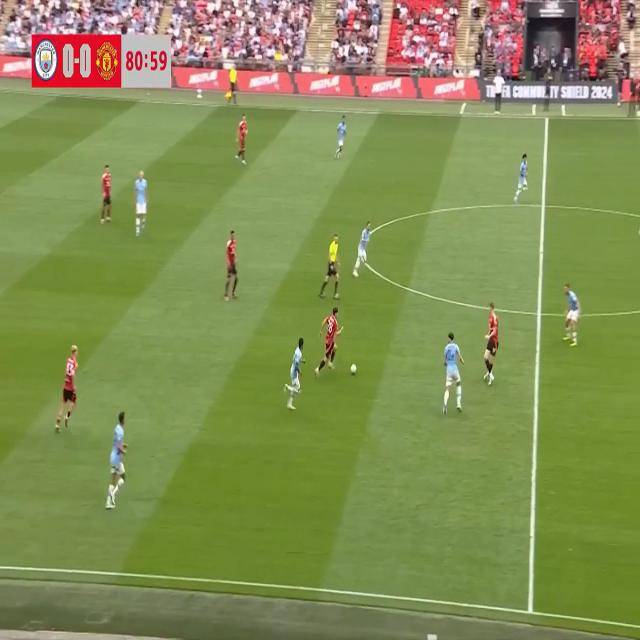ball: (346, 361, 360, 381)
players: (52, 342, 84, 441), (101, 407, 130, 514), (312, 301, 345, 382), (280, 336, 311, 414), (440, 328, 465, 424), (482, 297, 504, 390), (559, 274, 582, 351), (130, 165, 152, 241), (348, 213, 372, 282), (223, 228, 242, 304), (510, 150, 534, 207), (100, 162, 118, 230), (235, 101, 251, 170), (334, 115, 349, 162)
refree: (318, 217, 345, 303), (226, 50, 242, 113)
